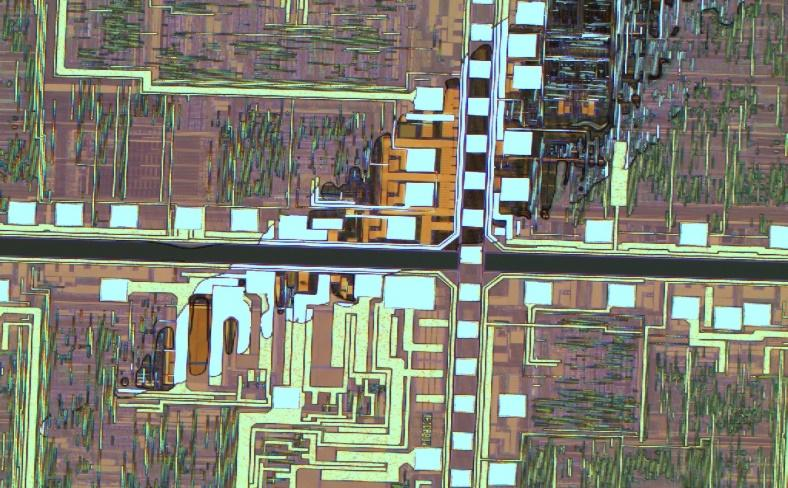COATING BAD: (41, 1, 749, 439)
